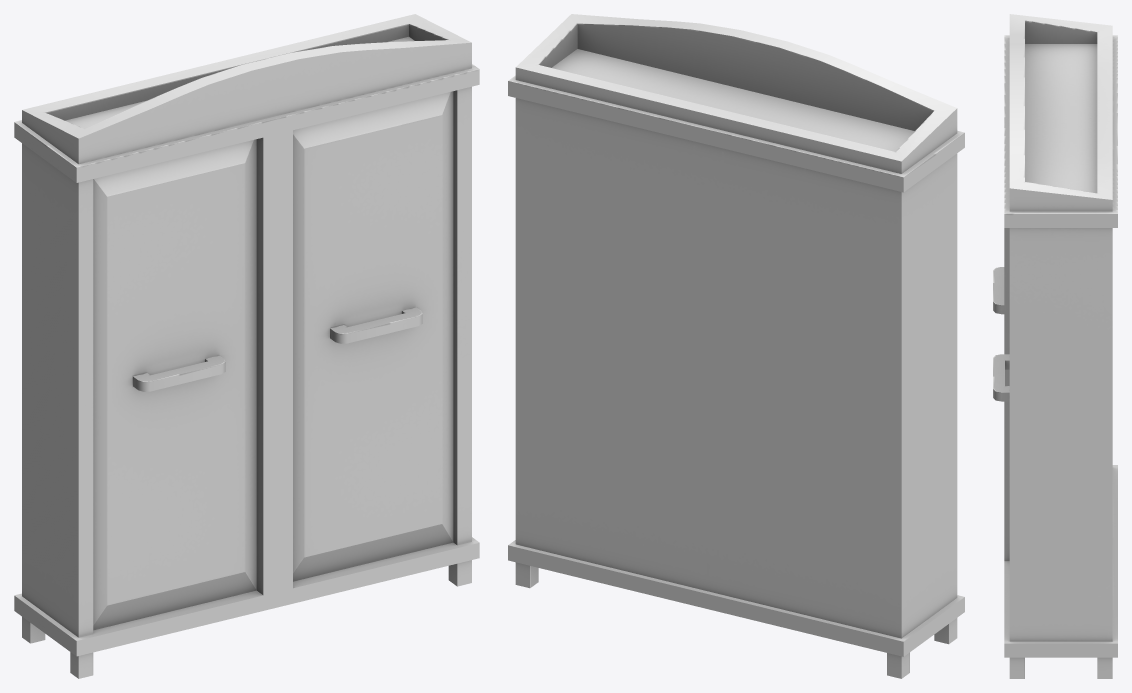
Rendered from wardrobe.fbx.
3 views of the same model, side by side, from view 1: azimuth 30°, elevation 25°; view 2: azimuth 150°, elevation 25°; view 3: azimuth 270°, elevation 25° (orthographic). The views are drawn at different scales.
Parts seen in each view (by area): view 1: wardrobe; view 2: wardrobe; view 3: wardrobe.
Boxes of the visible parts, box(x1,y1,x2,y2) form: wardrobe: box(14, 14, 479, 678); wardrobe: box(508, 14, 964, 678); wardrobe: box(993, 14, 1117, 678).
Bounding box in the file's own units: 820 × 1100 × 242.
